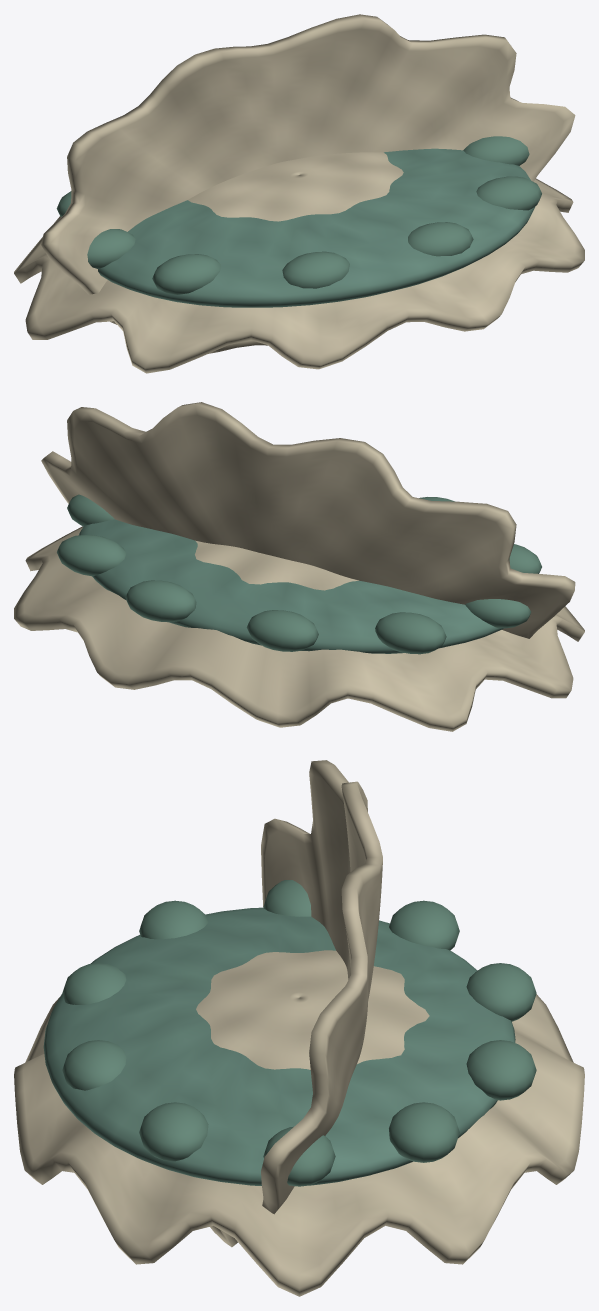
File: giant-clam.glb
3 views of the same model, one above another, from view 1: azimuth 30°, elevation 25°; view 2: azimuth 150°, elevation 25°; view 3: azimuth 270°, elevation 25° (orthographic). The views are drawn at different scales.
Visible parts, largest first — view 1: clam / open upper valve, clam / lower valve, clam / soft mantle, clam / mantle fold.006, clam / mantle fold.007, clam / mantle fold.008, clam / mantle fold.009, clam / mantle fold, clam / mantle fold.005; view 2: clam / open upper valve, clam / lower valve, clam / soft mantle, clam / mantle fold.003, clam / mantle fold.004, clam / mantle fold.002, clam / mantle fold.001, clam / mantle fold.005, clam / mantle fold, clam / mantle fold.006; view 3: clam / lower valve, clam / soft mantle, clam / open upper valve, clam / mantle fold.001, clam / mantle fold.002, clam / mantle fold.009, clam / mantle fold.003, clam / mantle fold.004, clam / mantle fold.008, clam / mantle fold.006, clam / mantle fold.007, clam / mantle fold (+1 smaller).
Part boxes in pixels (x1,y1,x2,y2): clam / open upper valve: (41, 14, 575, 353); clam / lower valve: (14, 152, 584, 373); clam / soft mantle: (98, 148, 535, 307); clam / mantle fold.006: (152, 254, 220, 294); clam / mantle fold.007: (282, 251, 349, 288); clam / mantle fold.008: (408, 222, 473, 256); clam / mantle fold.009: (476, 176, 541, 210); clam / mantle fold: (463, 136, 529, 165); clam / mantle fold.005: (87, 229, 135, 268); clam / open upper valve: (41, 402, 575, 638); clam / lower valve: (14, 526, 584, 731); clam / soft mantle: (79, 519, 503, 653); clam / mantle fold.003: (246, 610, 318, 651); clam / mantle fold.004: (375, 612, 446, 654); clam / mantle fold.002: (125, 580, 196, 622); clam / mantle fold.001: (57, 535, 126, 576); clam / mantle fold.005: (465, 599, 531, 628); clam / mantle fold: (67, 494, 114, 526); clam / mantle fold.006: (509, 544, 541, 573); clam / lower valve: (14, 950, 584, 1296); clam / soft mantle: (43, 907, 515, 1186); clam / open upper valve: (210, 760, 382, 1247); clam / mantle fold.001: (389, 1102, 459, 1162); clam / mantle fold.002: (466, 1040, 536, 1100); clam / mantle fold.009: (139, 1102, 208, 1161); clam / mantle fold.003: (466, 963, 536, 1021); clam / mantle fold.004: (389, 900, 459, 950); clam / mantle fold.008: (62, 1040, 126, 1090); clam / mantle fold.006: (139, 900, 208, 939); clam / mantle fold.007: (62, 963, 126, 1004); clam / mantle fold: (263, 1126, 335, 1186).
Size of the model in its own units: 1.47 by 0.7102 by 1.03.
